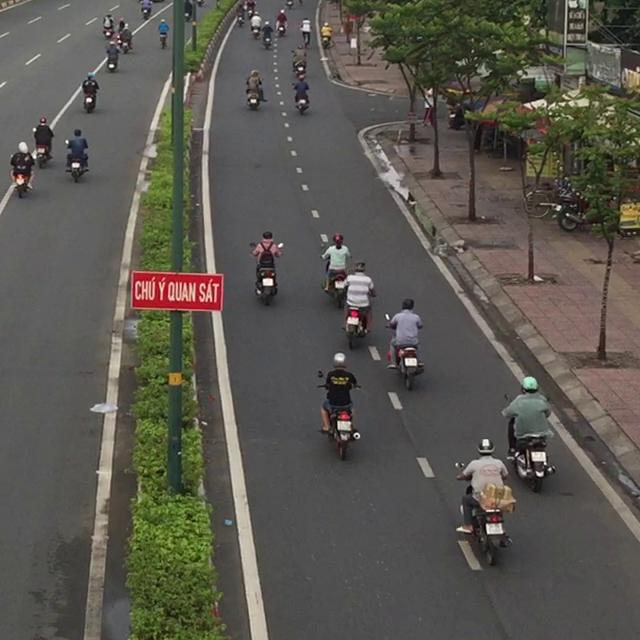Motorcycle: (454, 461, 515, 565), (502, 393, 556, 493), (316, 371, 362, 460), (384, 312, 425, 390), (249, 241, 283, 306), (340, 290, 376, 349), (319, 249, 348, 308), (9, 153, 34, 198), (64, 139, 89, 182), (33, 122, 53, 167), (244, 77, 263, 110)
